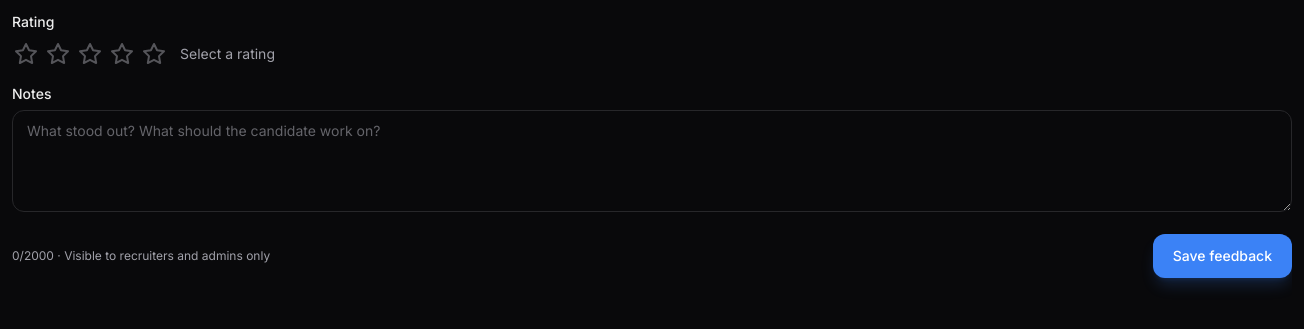
it: FeedbackForm › requires a rating before submitting
What coordinates should you click on to do the following:
click the button "Save feedback"
I would click on:
 (1222, 256)
Its box is [1153,234,1292,278].
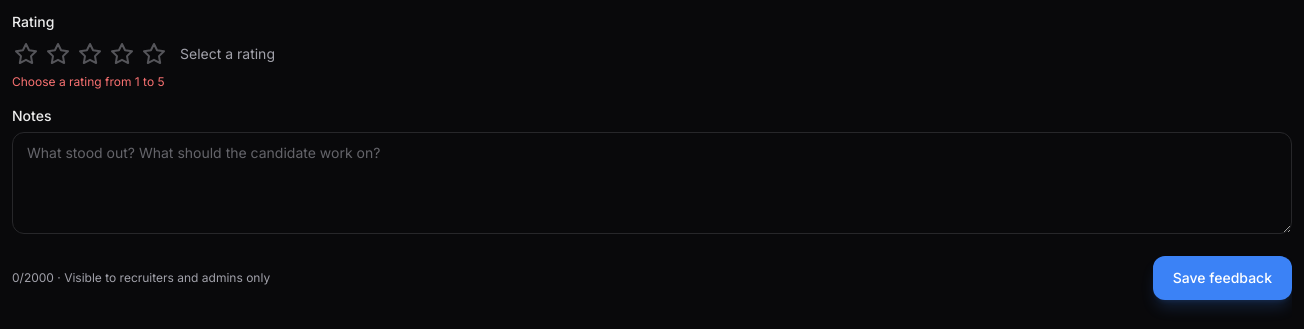
Expected: the text "Choose a rating from 1 to 5" is shown, [12,74,165,89]
